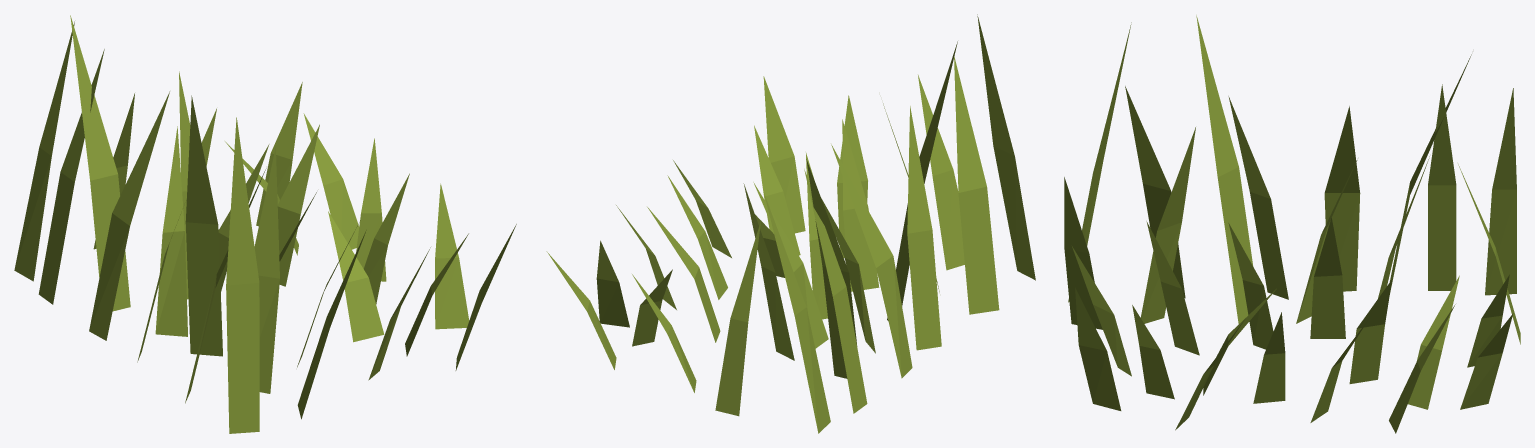
3 renders of one model, left to right at view 1: azimuth 30°, elevation 25°; view 2: azimuth 150°, elevation 25°; view 3: azimuth 270°, elevation 25°, orthographic. The views are drawn at different scales.
Size of the model in its own units: 96 by 89 by 128.
1 material, 1 textured.
